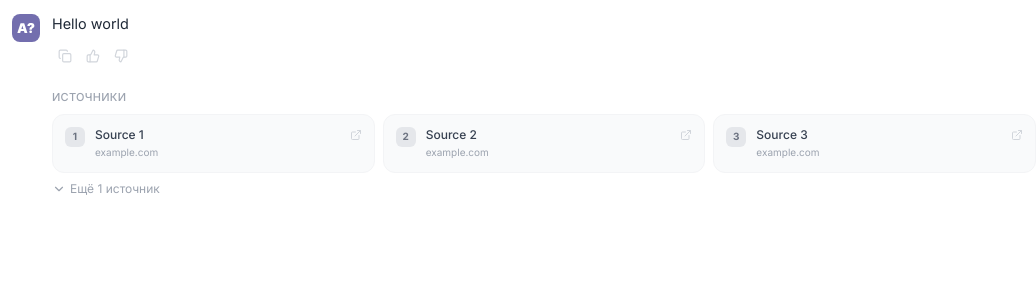
Test: AssistantMessage › collapses sources on second toggle
This screenshot has width=1036, height=283.
Click the button "Ещё 1 источник": click(106, 189) [52,181,160,197]
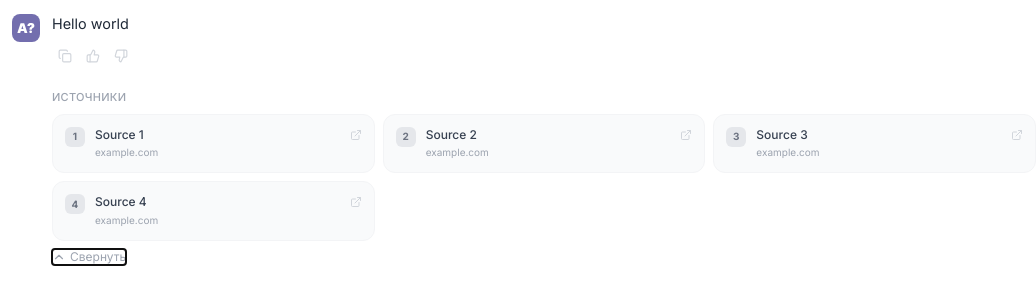
Click the button "Свернуть": click(89, 257) [52,249,126,265]
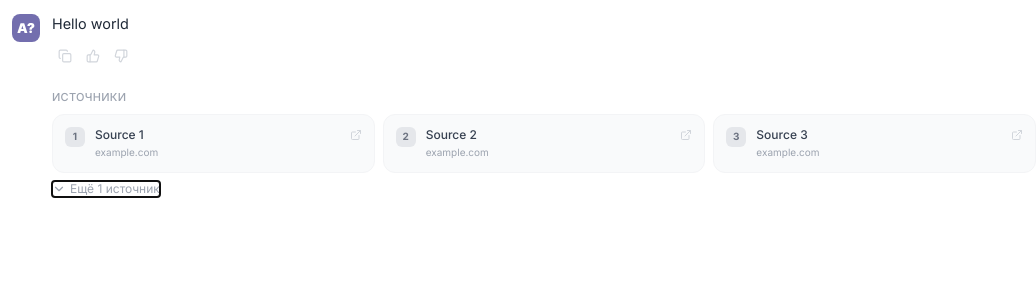
Check: the link "Source 4" is gone
